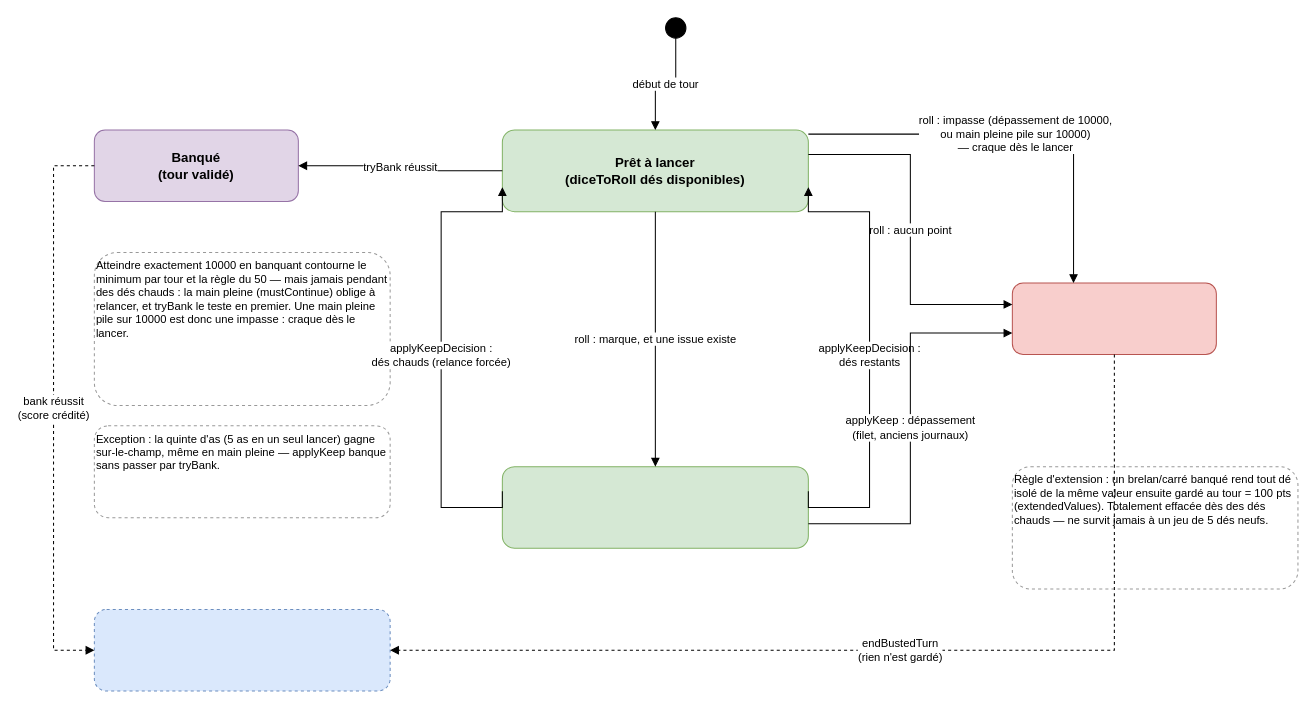
Image size: 1316x709. Some labels were removed from this diagram. The shapes that lost their labels are listed below. From the top down, each one's centre as x and y in pixels, then its label:
point (1113, 318): Craqué (busted)
point (654, 507): Décision en attente (pendingRoll analysé)
point (241, 649): fin du tour (GameEngine._advance, retour au moteur de partie)
